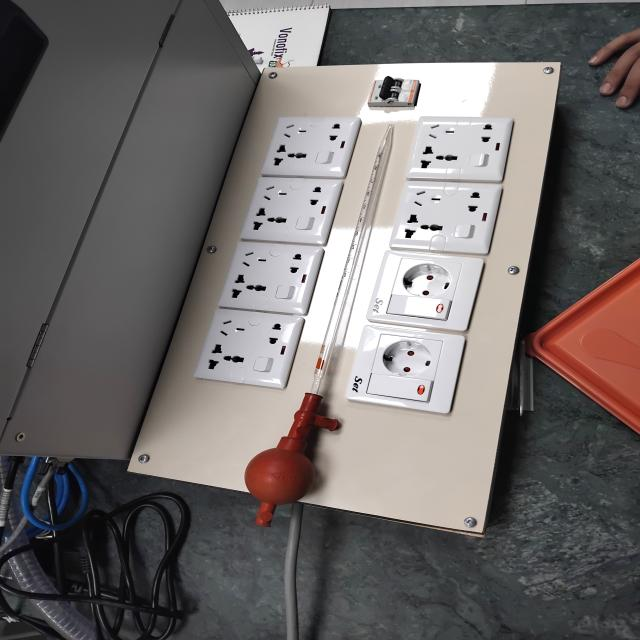Volumetric_Pipet: (214, 108, 427, 559)
